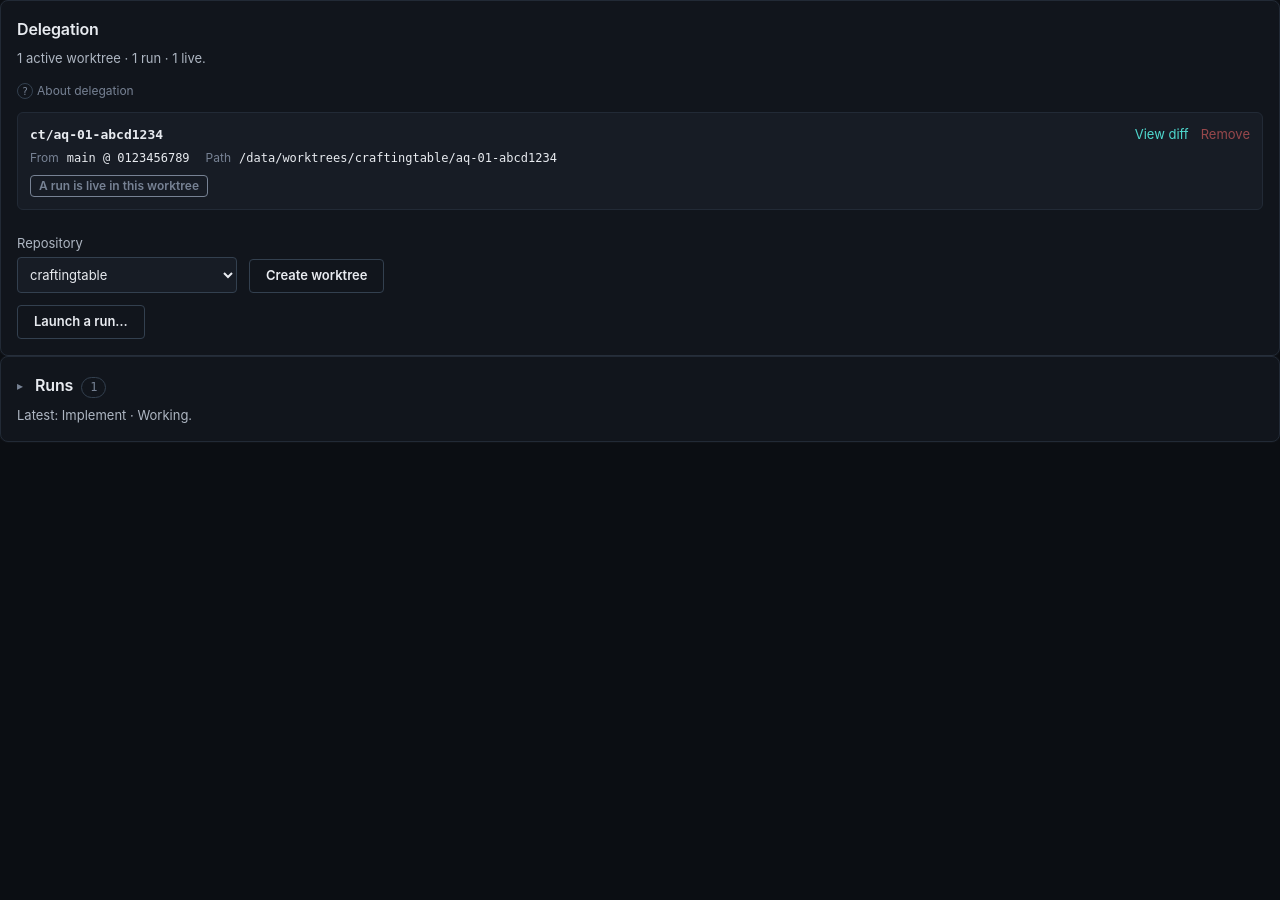
Test: DelegationPanel › cannot remove a worktree with a live run and disables launch without a backend
Expected: the button "Remove" is disabled, [1201,125,1250,144]
What coordinates should you click on to do the following:
click the button "Launch a run…"
I would click on:
 (81, 322)
Its box is [17,305,145,339].
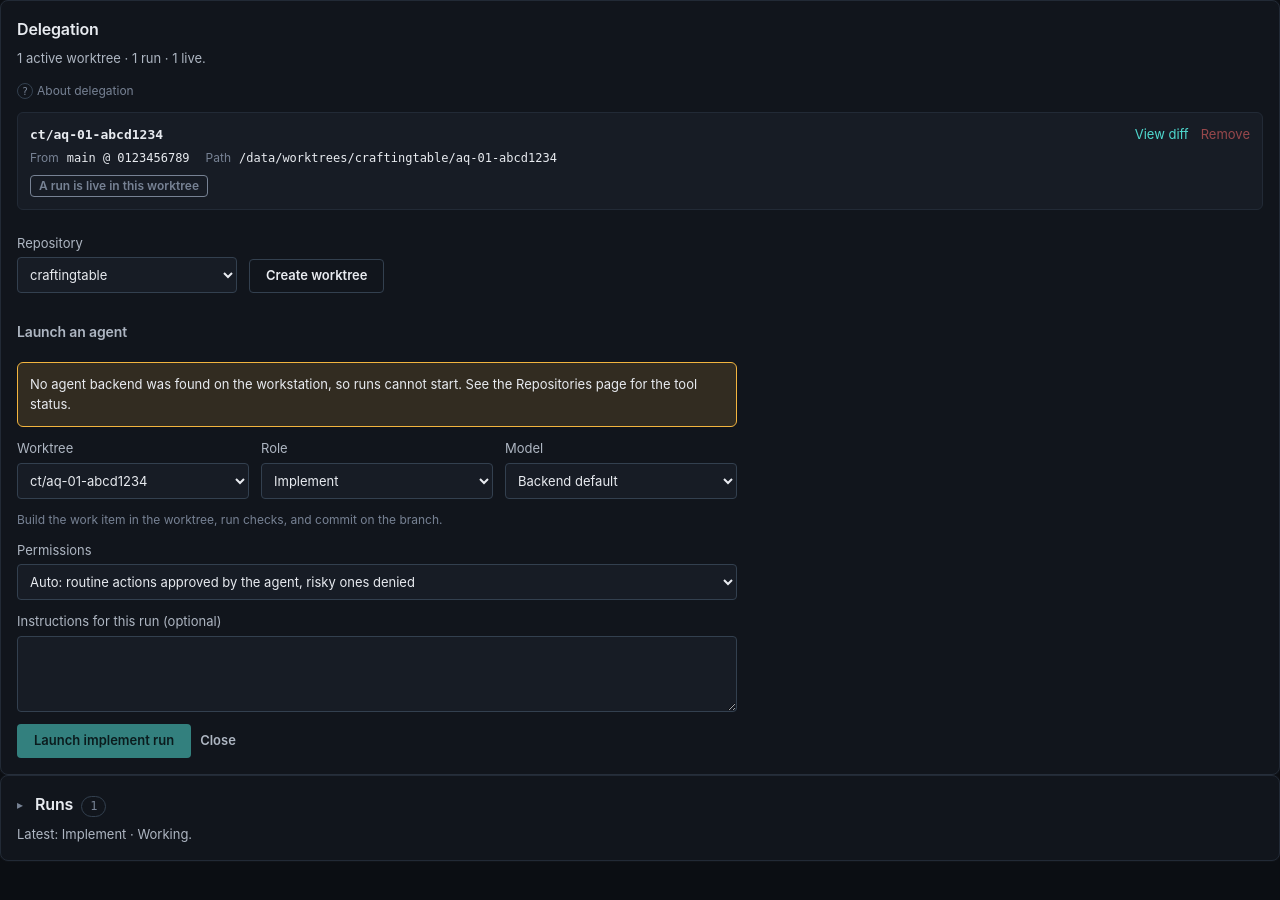
Now the button "Launch implement run" is disabled, box [17,724,191,758]
Now the text "No agent backend was found" is shown, box [30,376,697,412]
